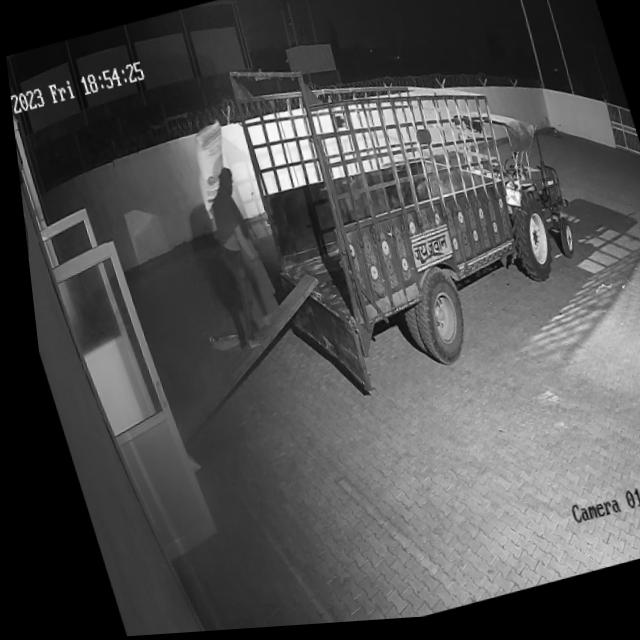sack: (178, 123, 240, 219)
